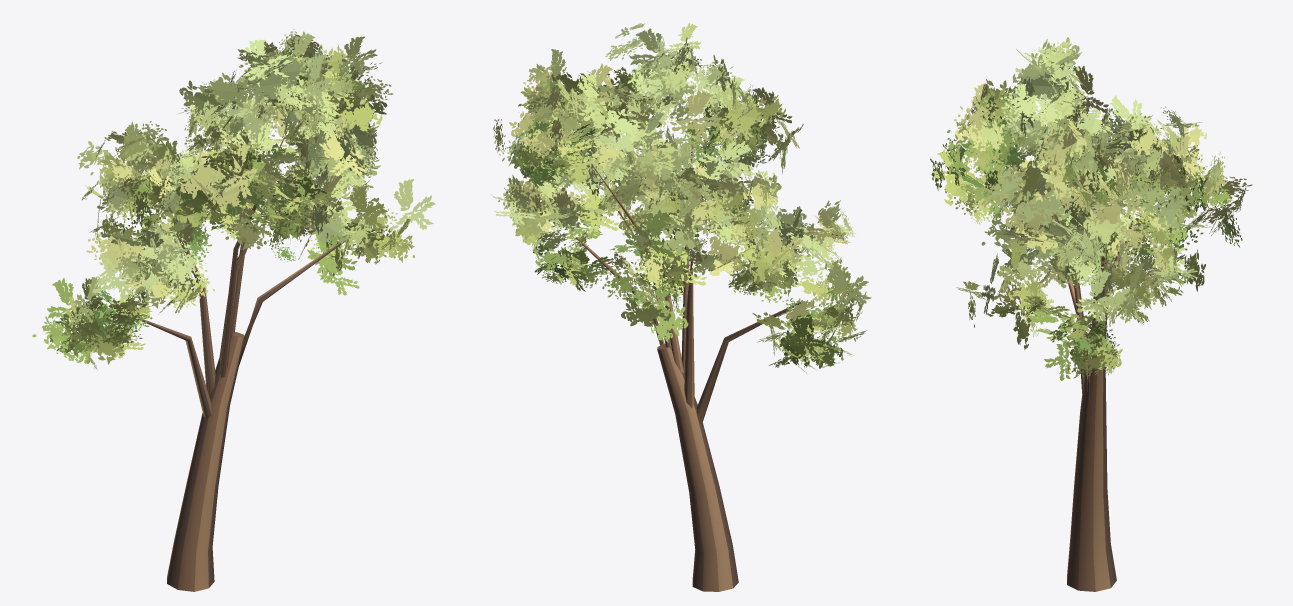
The model's file is Tree_04_Leaning_Sunlit_LOD1.glb.
3 renders of one model, left to right at view 1: azimuth 30°, elevation 25°; view 2: azimuth 150°, elevation 25°; view 3: azimuth 270°, elevation 25°, orthographic. The views are drawn at different scales.
Visible parts, largest first — view 1: Tree_04_Leaning_Sunlit_LOD1; view 2: Tree_04_Leaning_Sunlit_LOD1; view 3: Tree_04_Leaning_Sunlit_LOD1.
Part boxes in pixels (box(x1,y1,x2,y2)): Tree_04_Leaning_Sunlit_LOD1: box(32, 29, 435, 591); Tree_04_Leaning_Sunlit_LOD1: box(490, 23, 871, 591); Tree_04_Leaning_Sunlit_LOD1: box(930, 37, 1252, 591).
Size of the model in its own units: 5.72 by 7.57 by 4.23.
Materials: 9 (6 with a texture image).
